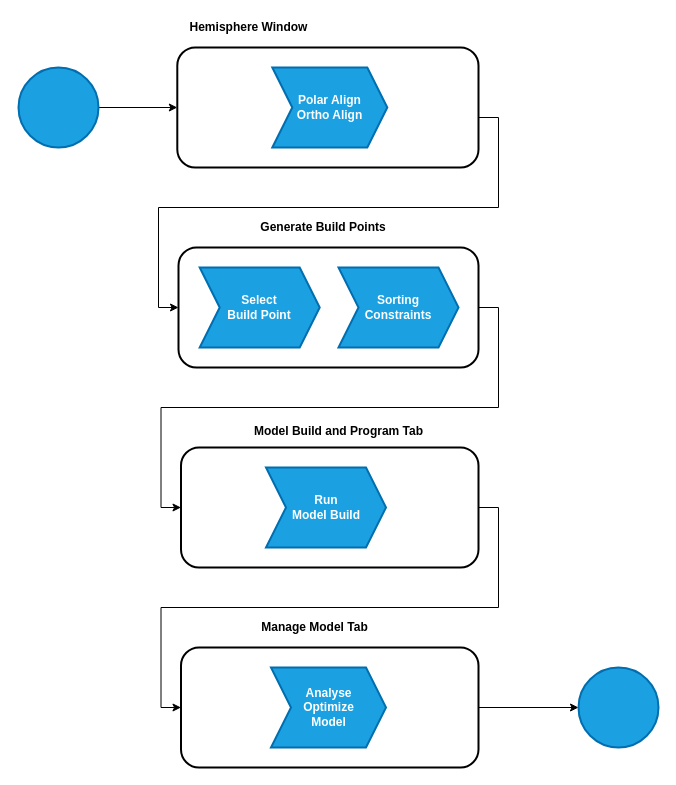
Some shapes in this 676 by 785 pixel diagram are drawn without their labels. Here are the shapes that lost their labels. From the top down, the centre of each, then its label:
the point at 58,107: Start Modeling
the point at 618,707: Finished Modeling
